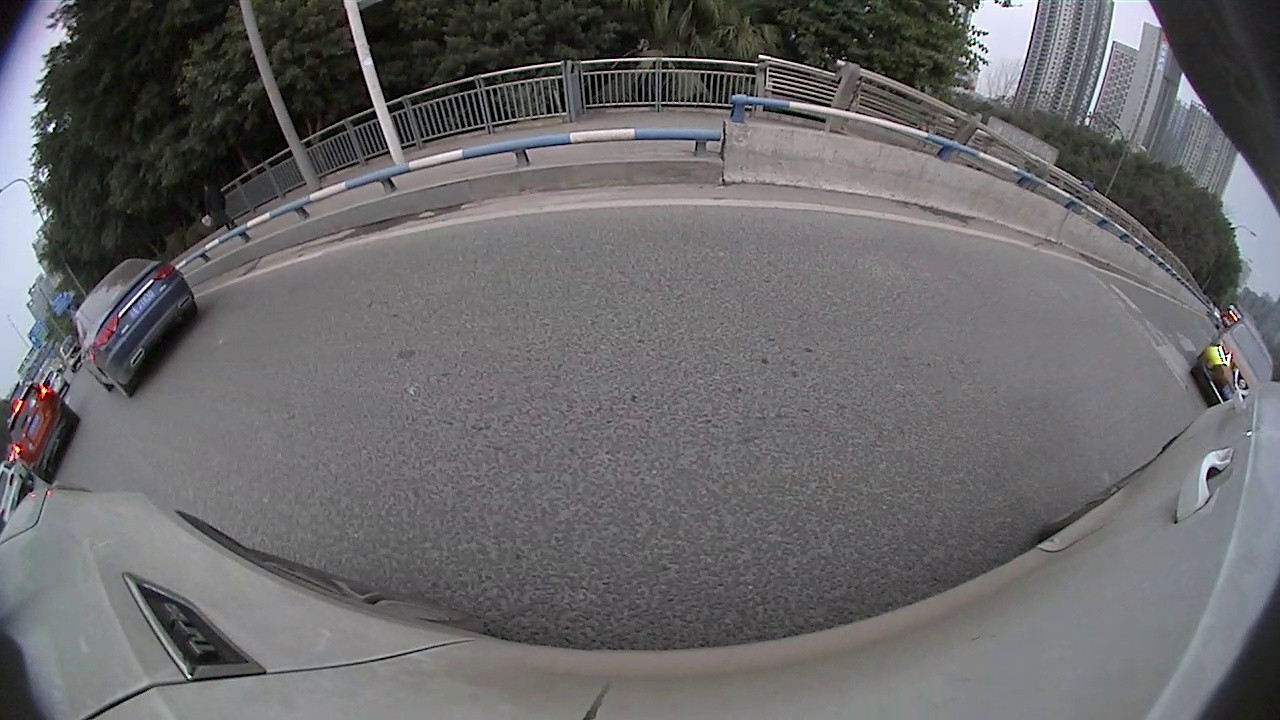car: (70, 255, 197, 400), (1188, 316, 1276, 410), (4, 380, 80, 485), (0, 462, 33, 529), (55, 332, 90, 374), (39, 368, 70, 395)
person: (195, 178, 242, 238)
rear: (99, 365, 135, 401), (179, 302, 202, 329)
